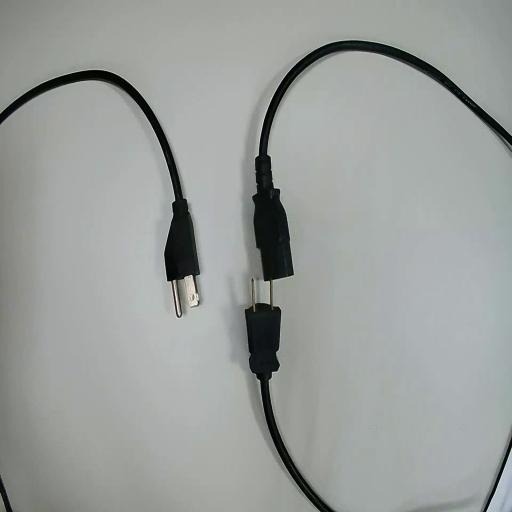wire: (253, 41, 511, 279), (0, 71, 197, 280), (245, 303, 332, 511)
